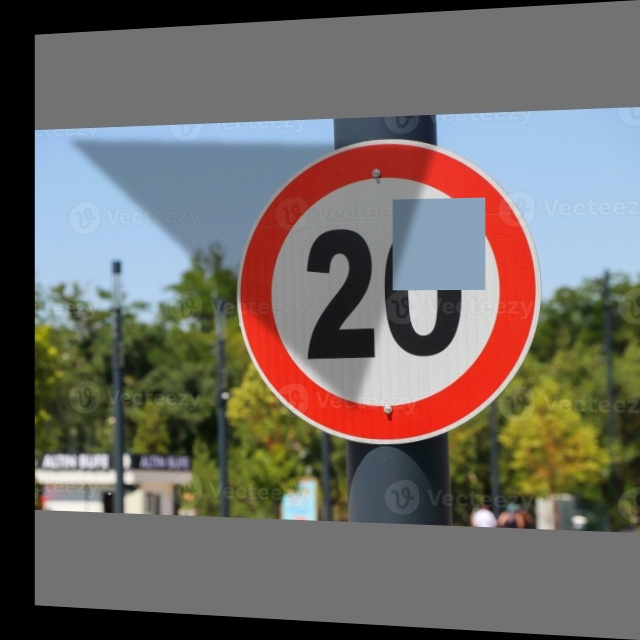Speed_Limit_20: (241, 130, 533, 434)
